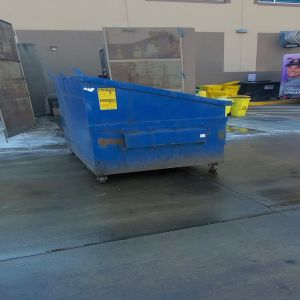Dumpster: (56, 77, 199, 187)
